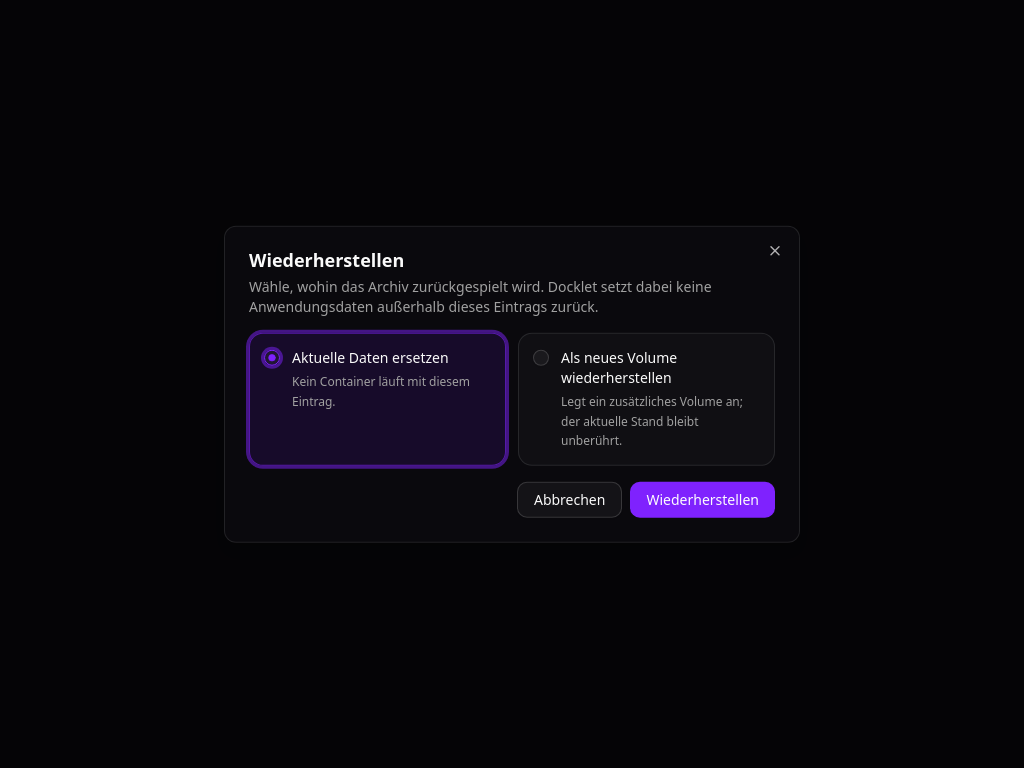
defaults to replace, prefills new name and displays existing-name refusal
What coordinates should you click on to do the following:
click the radio button named "Als neues Volume" next to "Als neues Volume wiederherstellen"
I would click on:
 (541, 358)
Its box is 533,350 -> 549,366.
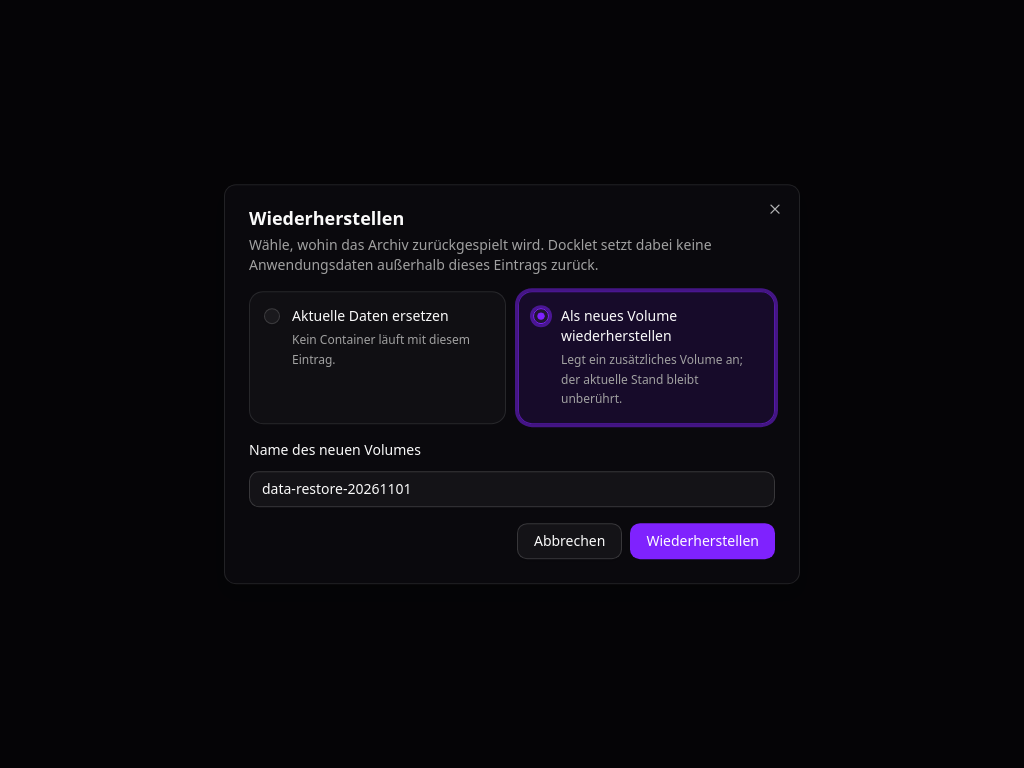
What coordinates should you click on to do the following:
click the button "Wiederherstellen"
I would click on:
 (703, 541)
Its box is 630,523 -> 775,559.
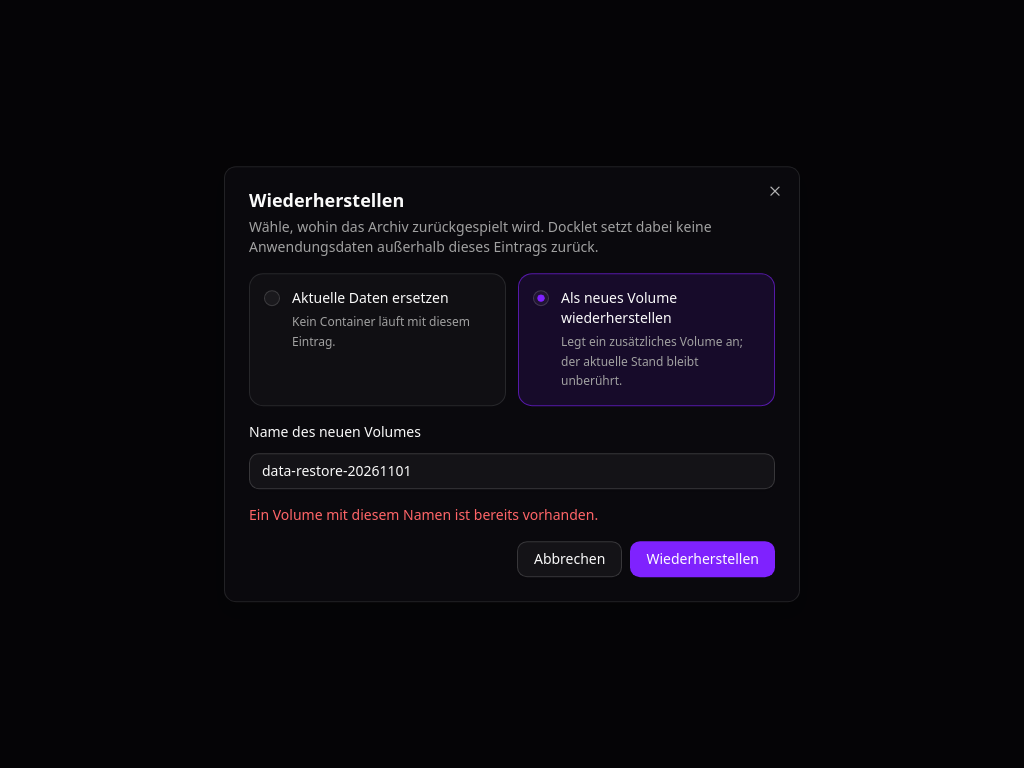
Check: the message shows "Ein Volume mit diesem Namen ist bereits vorhanden", box 249,505 -> 598,524
